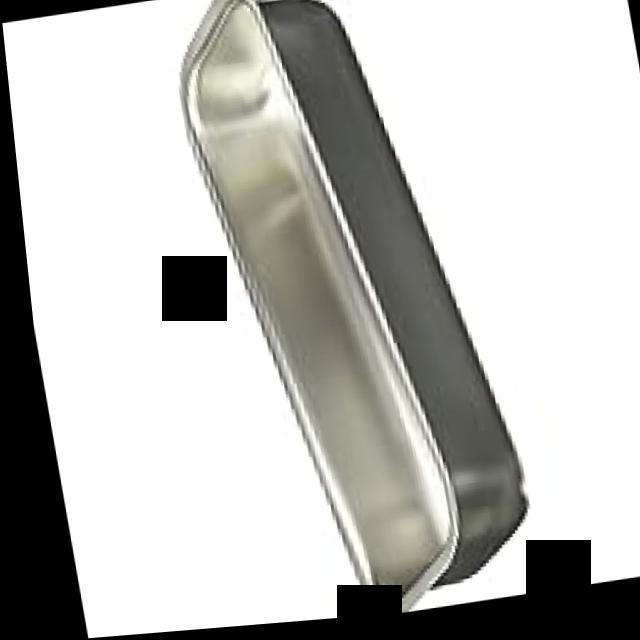Catheter Tray: (139, 0, 533, 631)
